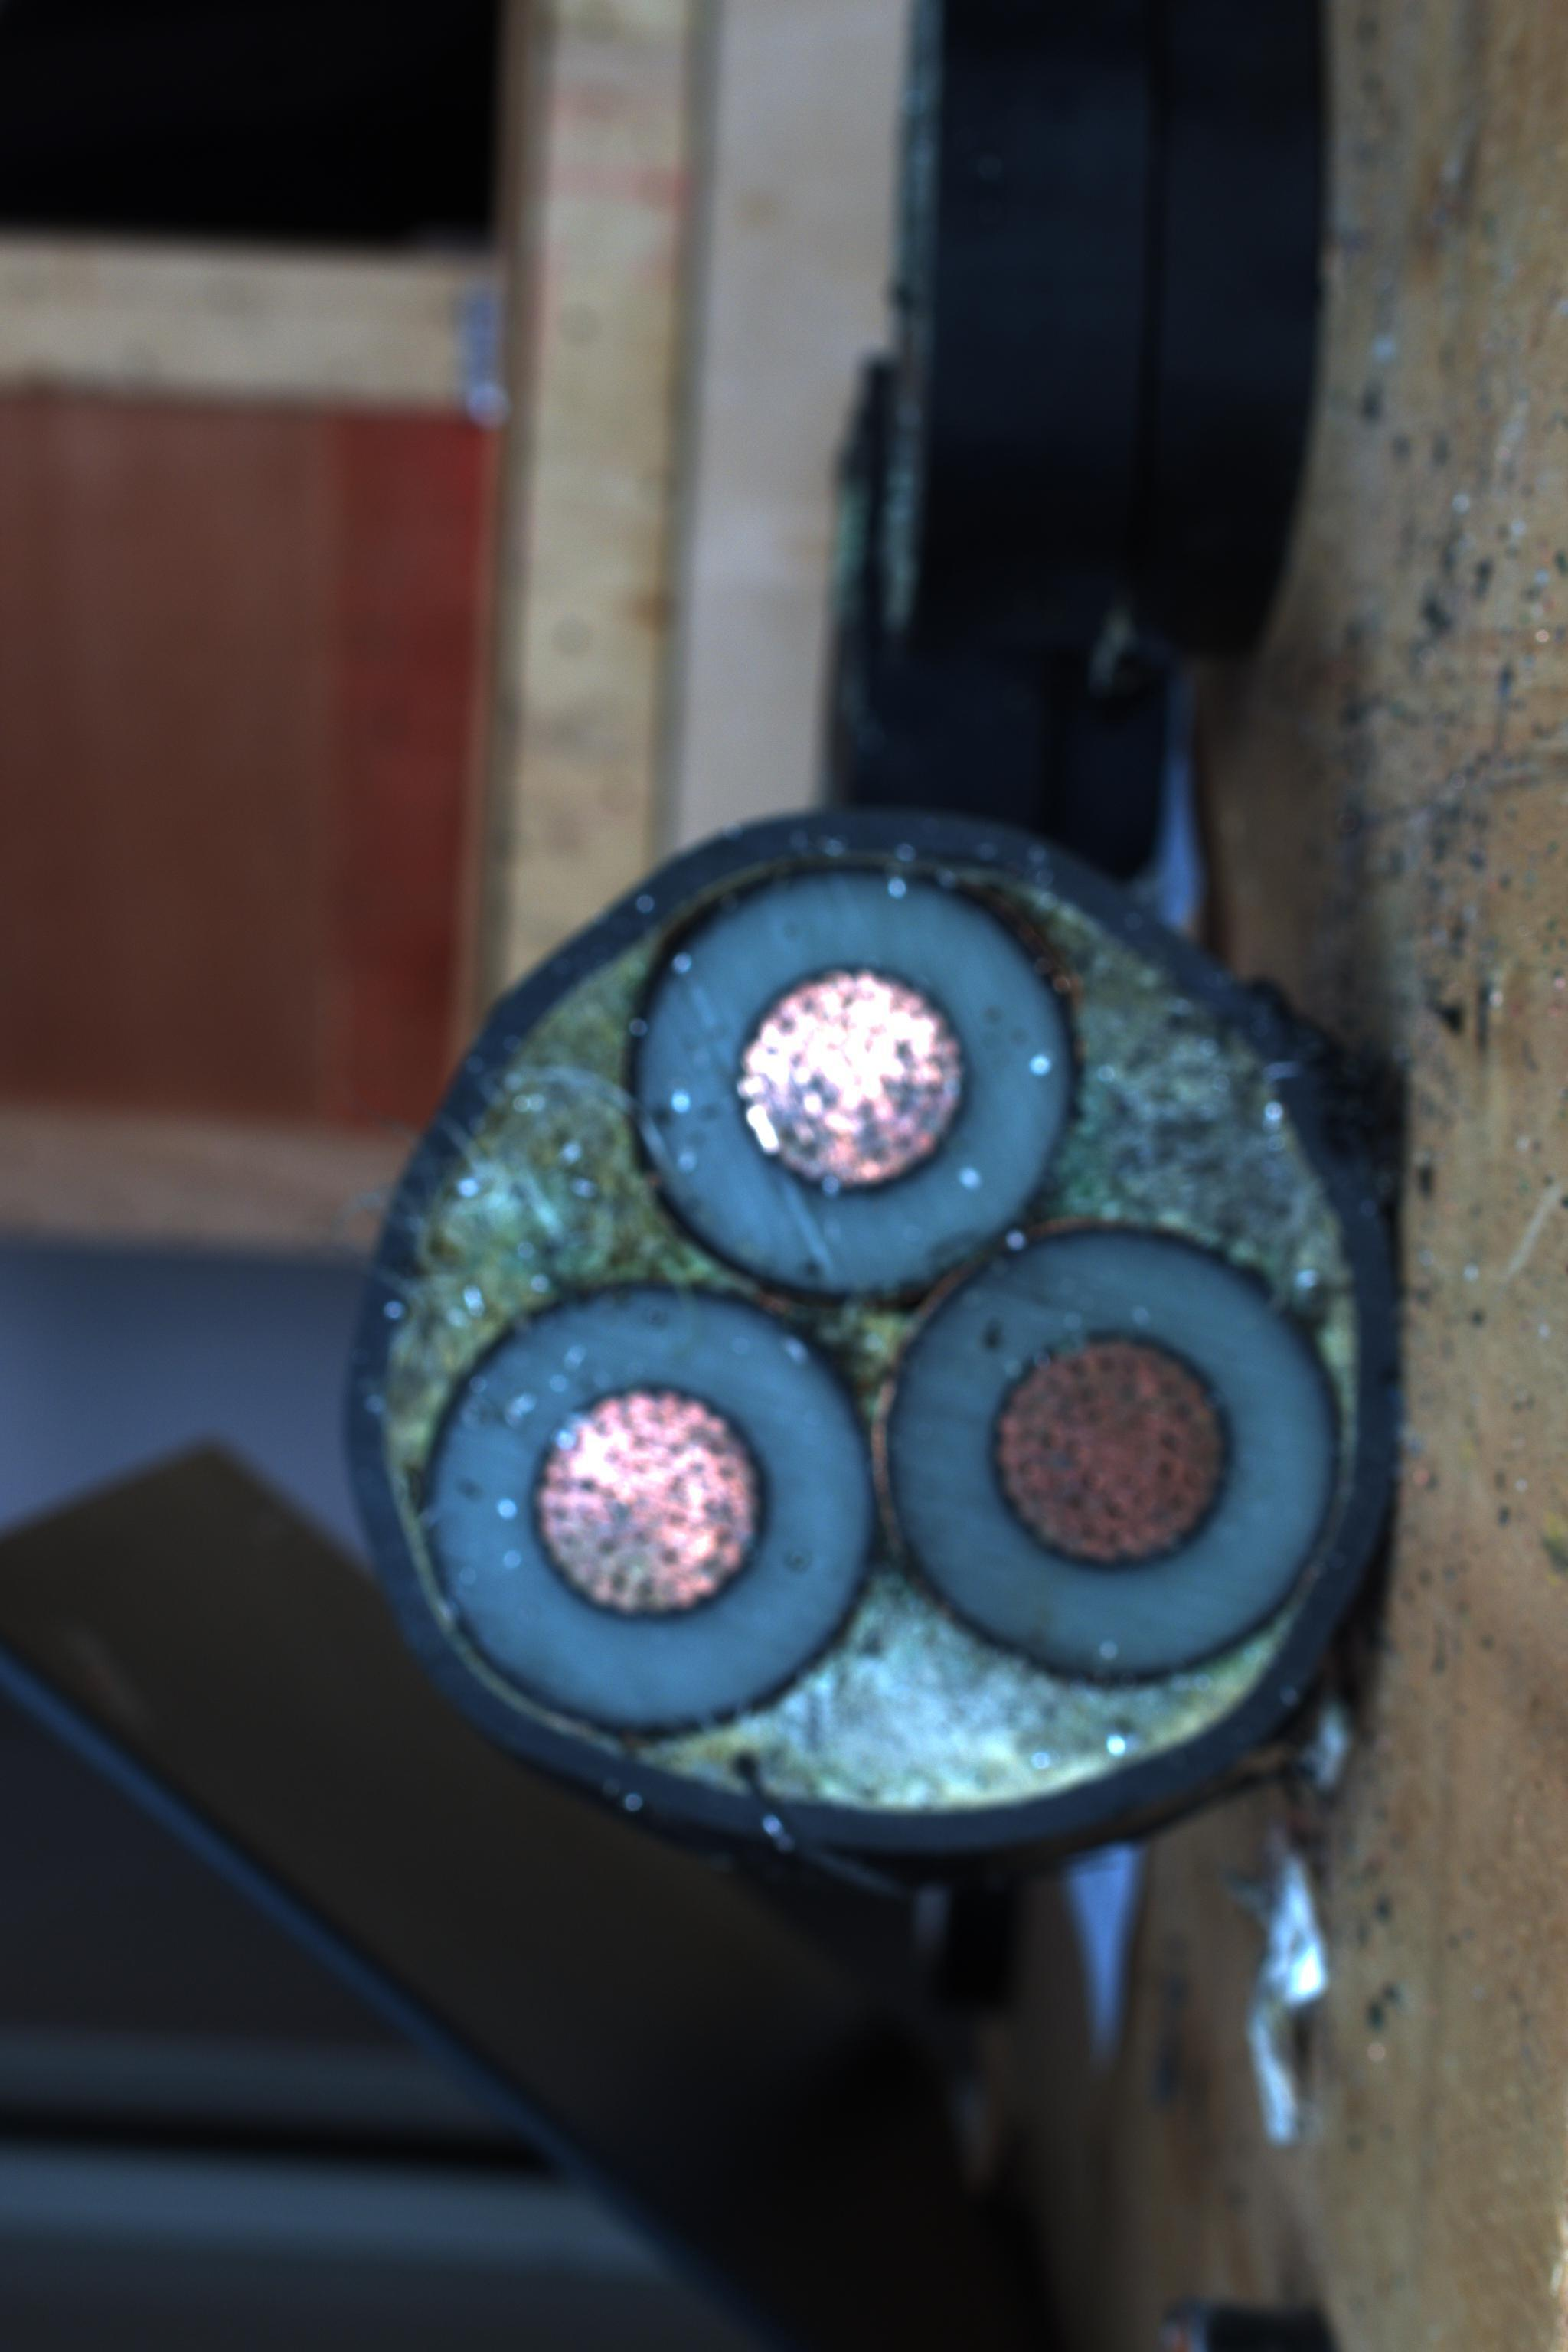ZA_YJV_26_35kV_3x400: (268, 814, 1402, 1893)
